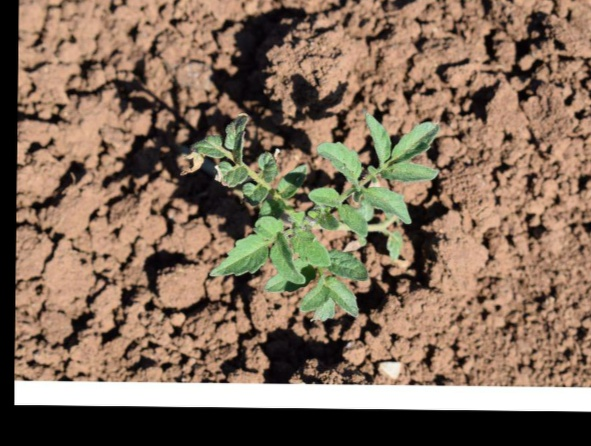tomato: (189, 109, 438, 321)
